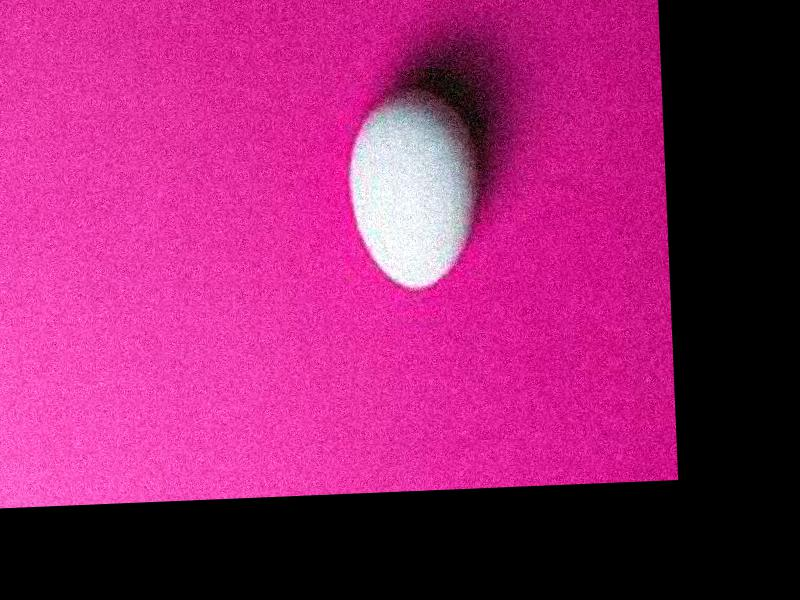Eggs: (345, 88, 481, 291)
